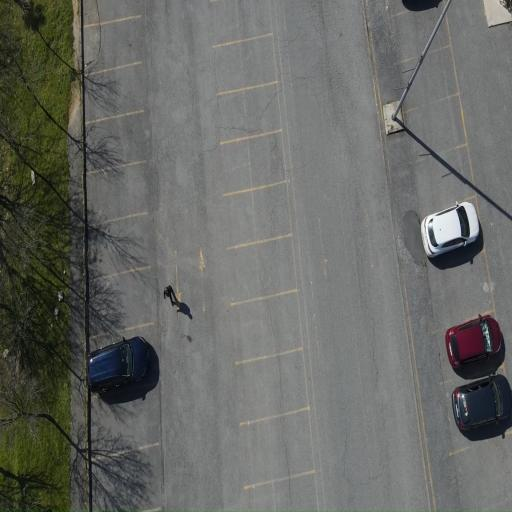car: (87, 337, 149, 392), (421, 202, 479, 257), (452, 375, 511, 429), (446, 315, 501, 367)
person: (164, 285, 179, 310)
